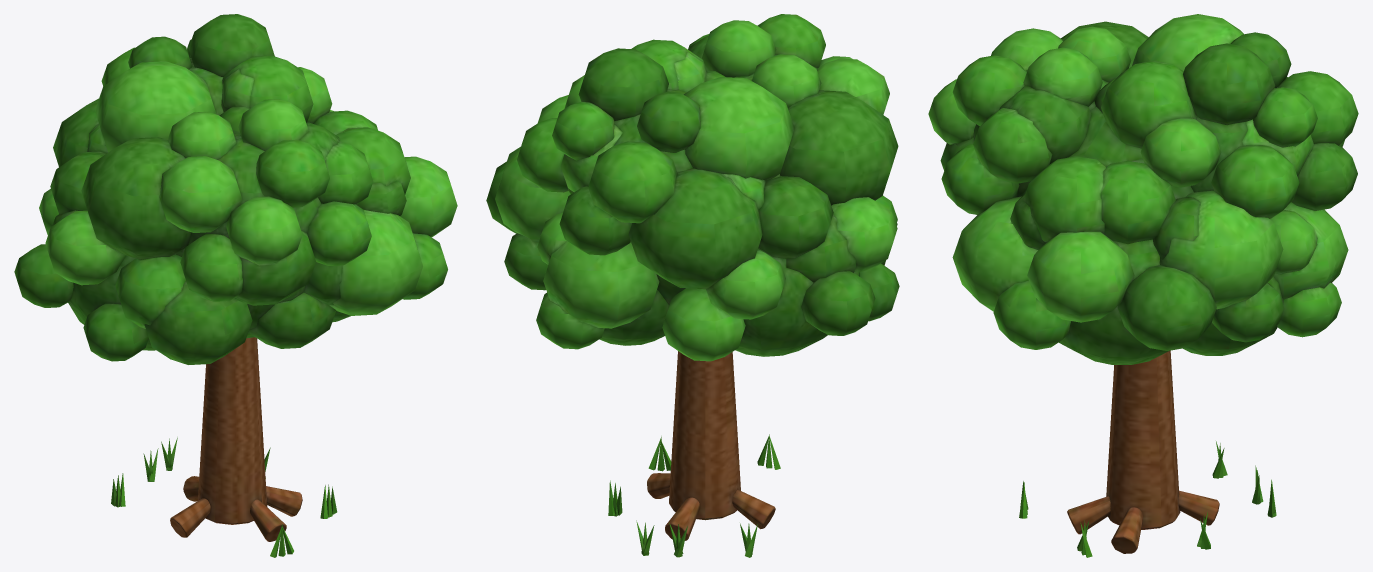
File: nectarine_tree.glb
3 views of the same model, side by side, from view 1: azimuth 30°, elevation 25°; view 2: azimuth 150°, elevation 25°; view 3: azimuth 270°, elevation 25° (orthographic). The views are drawn at different scales.
Parts seen in each view (by area): view 1: crown, nectarine_tree; view 2: crown, nectarine_tree; view 3: crown, nectarine_tree.
Part boxes in pixels (x1,y1,x2,y2): crown: (14,14,457,364); nectarine_tree: (111,337,337,557); crown: (486,14,899,361); nectarine_tree: (608,351,780,557); crown: (928,14,1358,364); nectarine_tree: (1019,350,1276,557).
Size of the model in its own units: 1.13 by 1.31 by 1.03.
Materials: 1 (1 with a texture image).
